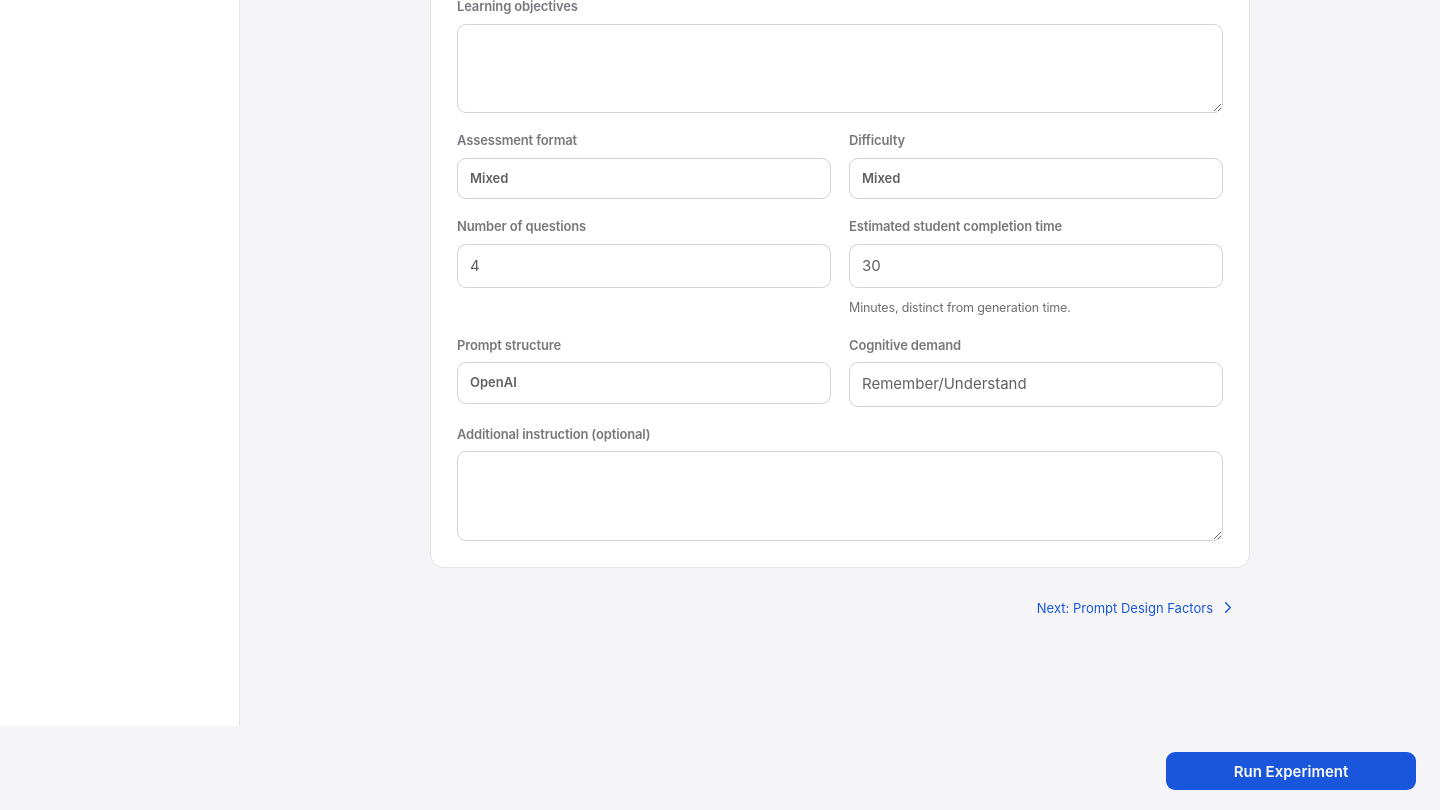
Scenario: uses compact wide run action and chevron section navigation
(page scrolled)
Expected: the icon is shown, [1220,600,1235,615]
Click the button "Next: Prompt Design Factors": (1136, 608) [1022,590,1250,626]
(page scrolled)
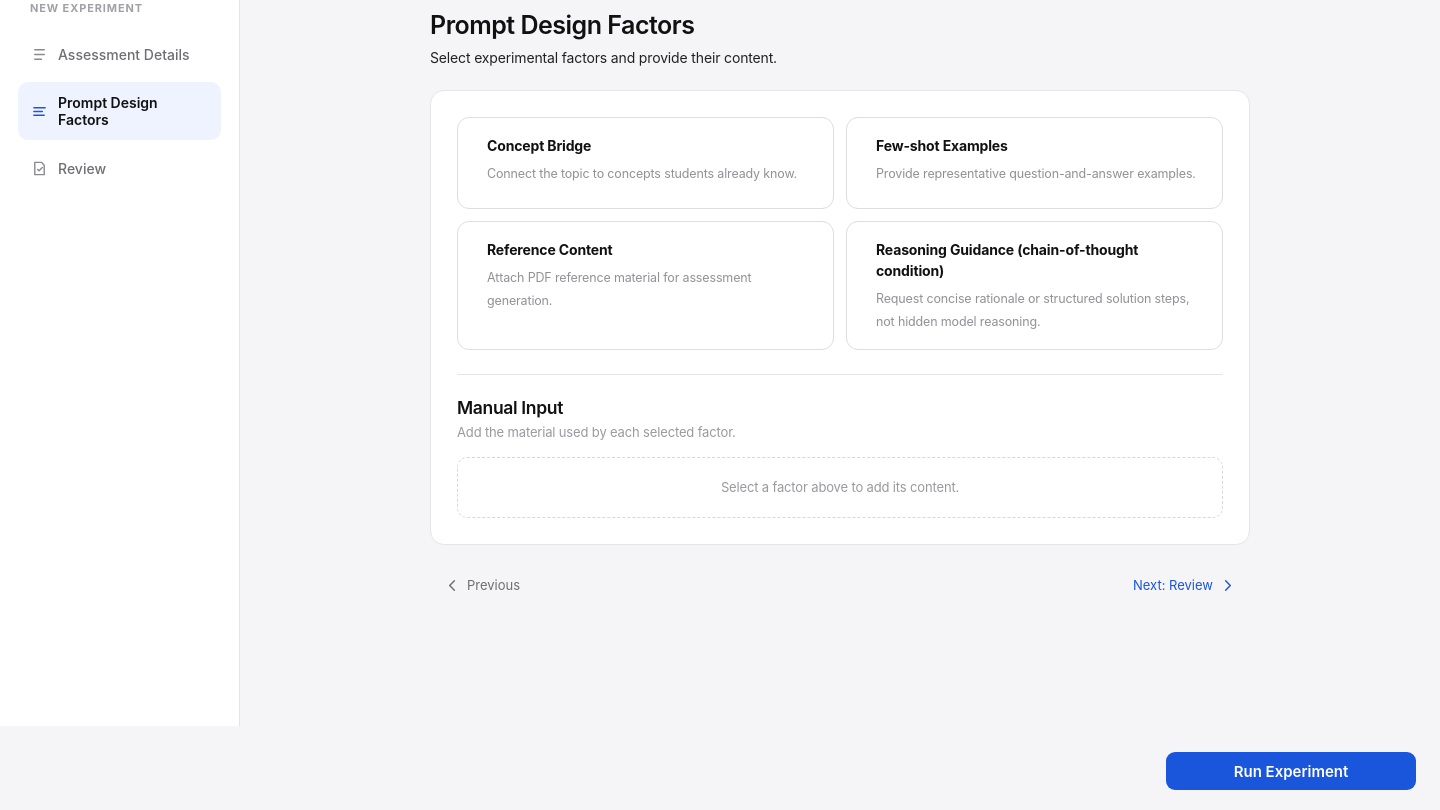
Result: the 4th icon is shown at [445,578,460,592]
